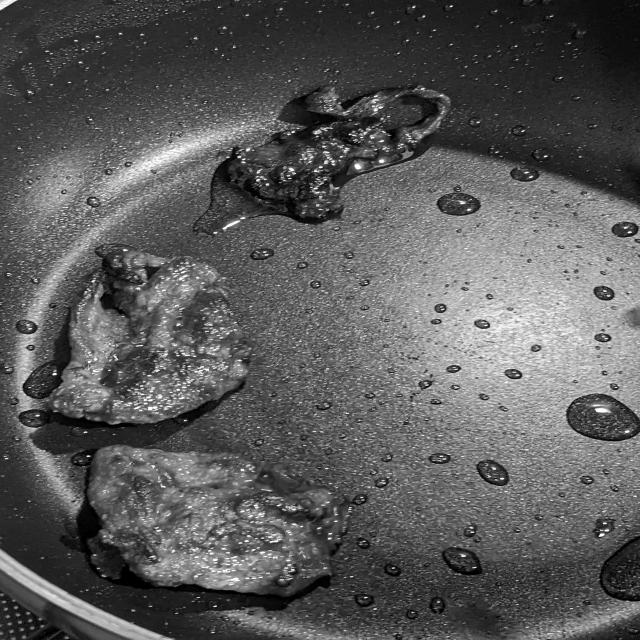overcooked pork: (80, 441, 359, 603), (33, 239, 257, 432), (220, 82, 462, 228)
